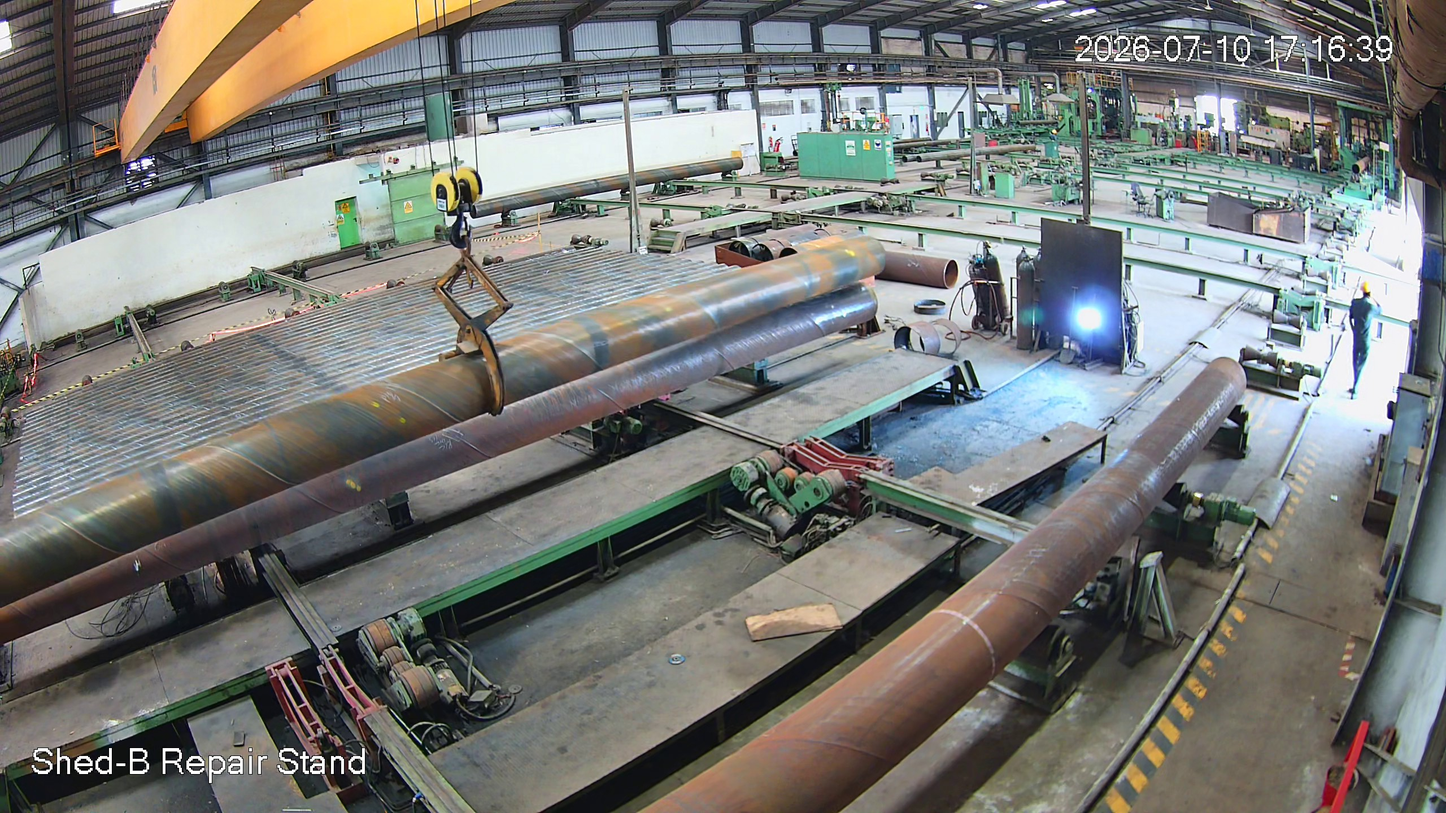Helmet: (1356, 279, 1380, 310)
Person: (1344, 281, 1382, 402)
